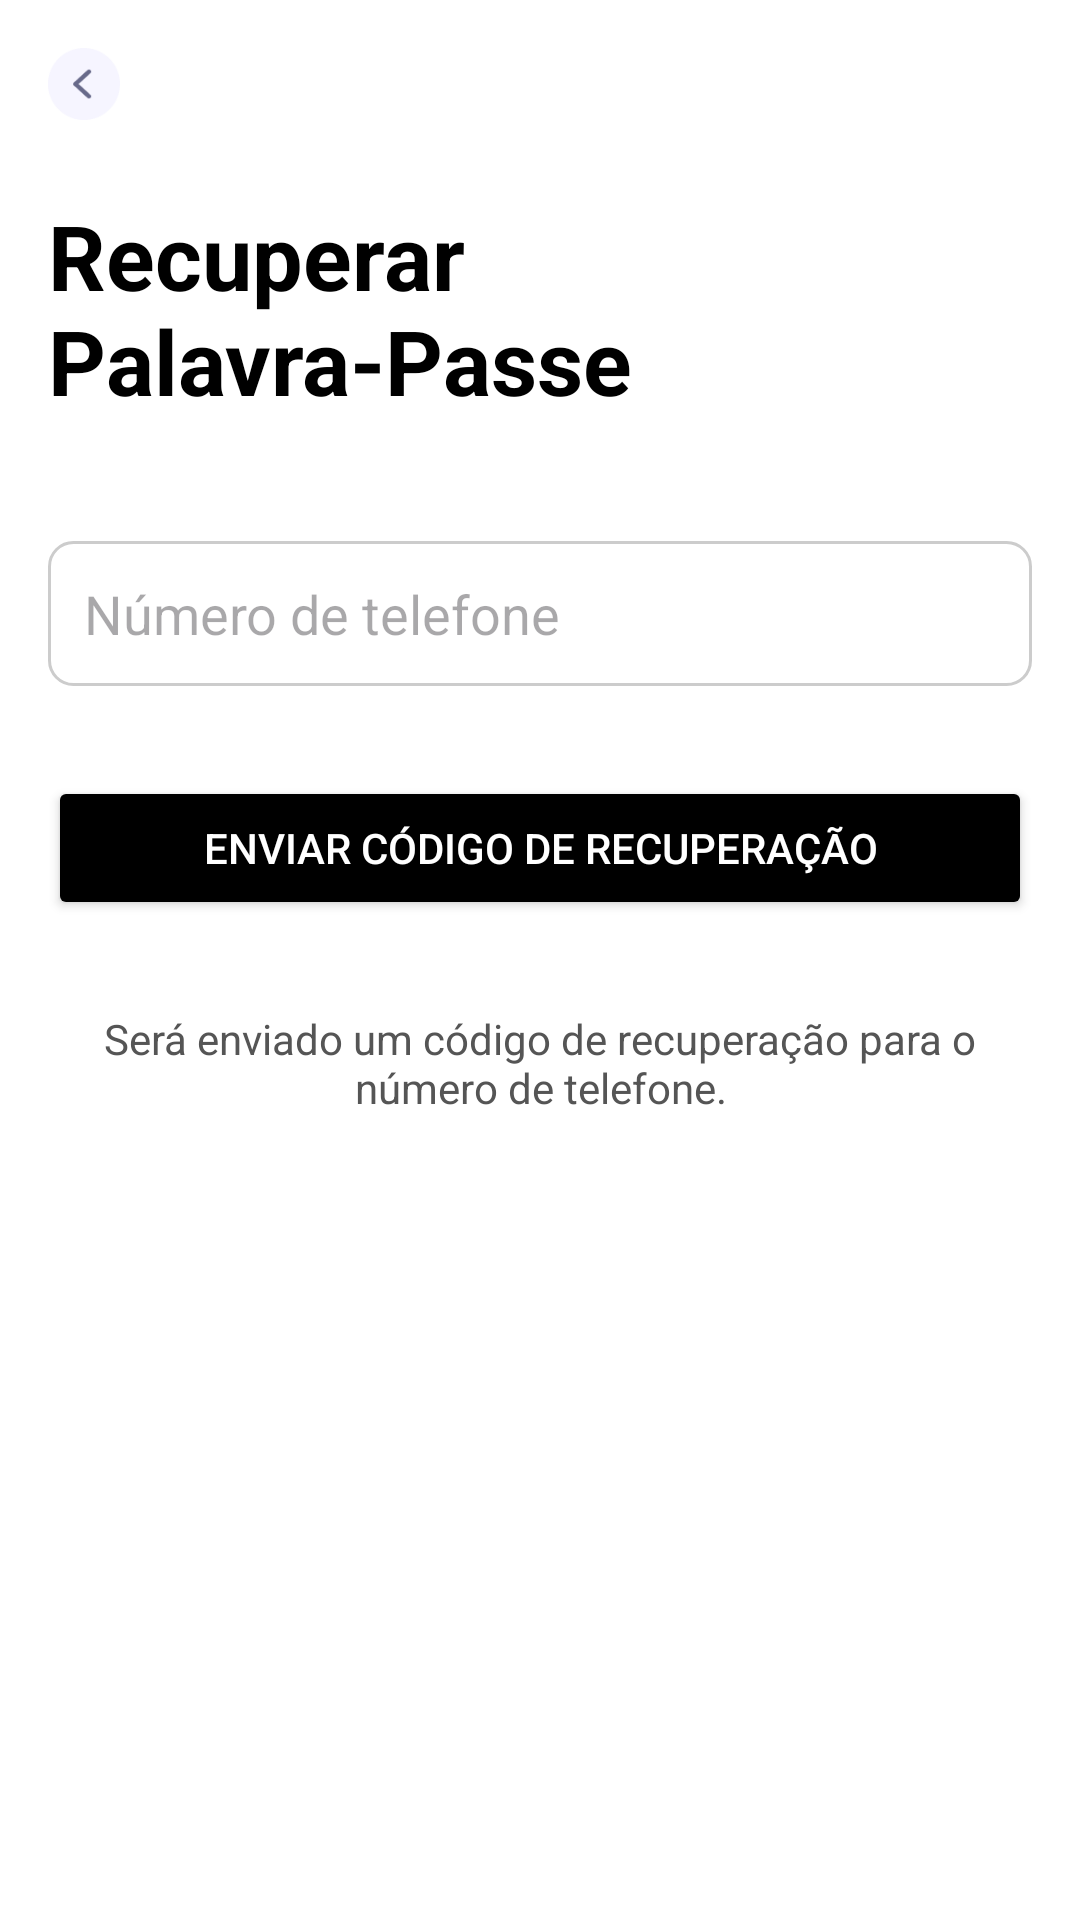

Icon bounding boxes for this 1080w x 1920h phone screenshot, format (x1, y1, x2, y2):
Voltar: (48, 48, 120, 120)
